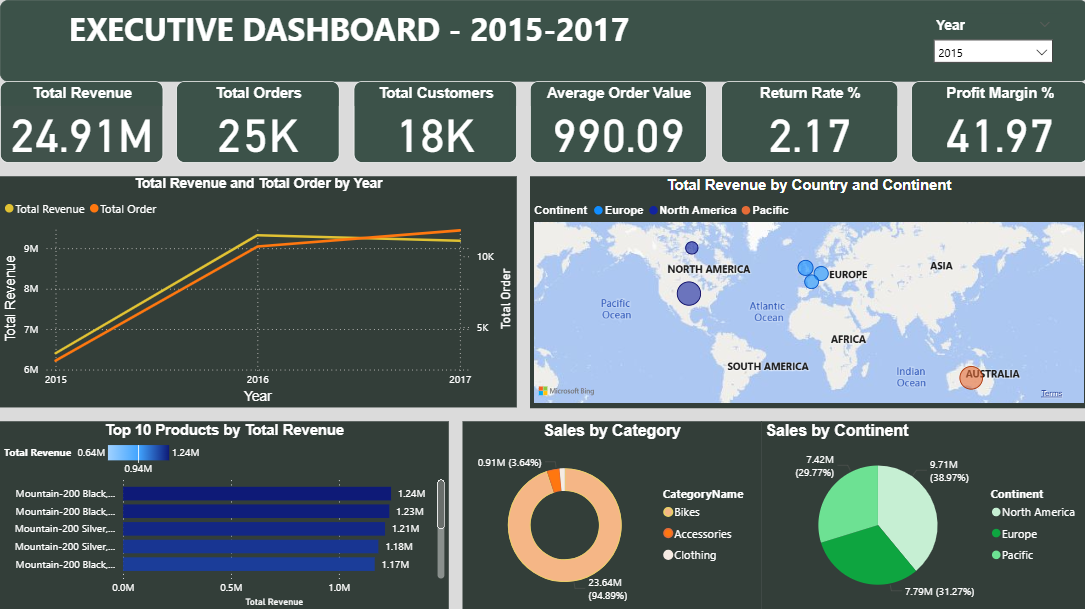

Layout of this report page (visuals, bound fields, positions):
{"tool":"powerbi","page":{"name":"Executive dashboard","canvas":[1280,720],"ordinal":1},"visuals":[{"type":"textbox","box":[0,0,1280,96],"z":0},{"type":"card","title":"Total Revenue","fields":{"Values":["sales.Total Revenue"]},"box":[0,96,192,96],"z":1000},{"type":"card","title":"Total Orders","fields":{"Values":["sales.Total Order"]},"box":[208,96,192,96],"z":2000},{"type":"card","title":"Total Customers","fields":{"Values":["Customers.Total Customers"]},"box":[416,96,192,96],"z":3000},{"type":"card","title":"Average Order Value","fields":{"Values":["sales.Average Order Value"]},"box":[624,96,208,96],"z":4000},{"type":"card","title":"Profit Margin %","fields":{"Values":["sales.Profit Margin %"]},"box":[1072,96,208,96],"z":5000},{"type":"card","title":"Return Rate %","fields":{"Values":["Returns.Return Rate %"]},"box":[848,96,208,96],"z":6000},{"type":"lineChart","fields":{"Category":["sales.OrderDate.Variation.Date Hierarchy.Year","sales.OrderDate.Variation.Date Hierarchy.Quarter","sales.OrderDate.Variation.Date Hierarchy.Month","sales.OrderDate.Variation.Date Hierarchy.Day"],"Y":["sales.Total Revenue"],"Y2":["sales.Total Order"]},"box":[0,208,608,272],"z":7000},{"type":"map","fields":{"Category":["Territories.Country"],"Series":["Territories.Continent"],"Size":["sales.Total Revenue"]},"box":[624,208,656,272],"z":8000},{"type":"clusteredBarChart","title":"Top 10 Products by Total Revenue","fields":{"Category":["Products.ProductName"],"Y":["sales.Total Revenue"]},"box":[0,496,528,224],"z":9000},{"type":"donutChart","title":"Sales by Category","fields":{"Y":["sales.Total Revenue"],"Category":["Product_Categories.CategoryName"]},"box":[544,496,352,224],"z":10000},{"type":"pieChart","title":"Sales by Continent","fields":{"Category":["Territories.Continent"],"Y":["sales.Total Revenue"]},"box":[896,496,384,224],"z":11000},{"type":"slicer","fields":{"Values":["Calendar.Date//.Variation.Date Hierarchy.Year"]},"box":[1088,16,160,64],"z":12000}]}

Visuals, with their boxes in screenshot pixels (x1, y1, x2, y2), scaled from the page's 1280x720 canvas onto the 1085x609 screenshot:
textbox: x1=0, y1=0, x2=1084, y2=81
"Total Revenue" card: x1=0, y1=81, x2=163, y2=162
"Total Orders" card: x1=176, y1=81, x2=339, y2=162
"Total Customers" card: x1=353, y1=81, x2=515, y2=162
"Average Order Value" card: x1=529, y1=81, x2=705, y2=162
"Profit Margin %" card: x1=909, y1=81, x2=1084, y2=162
"Return Rate %" card: x1=719, y1=81, x2=895, y2=162
lineChart - sales.OrderDate.Variation.Date Hierarchy.Year x sales.OrderDate.Variation.Date Hierarchy.Quarter: x1=0, y1=176, x2=515, y2=406
map - Territories.Country x Territories.Continent: x1=529, y1=176, x2=1084, y2=406
"Top 10 Products by Total Revenue" clusteredBarChart: x1=0, y1=420, x2=448, y2=608
"Sales by Category" donutChart: x1=461, y1=420, x2=760, y2=608
"Sales by Continent" pieChart: x1=760, y1=420, x2=1084, y2=608
slicer - Calendar.Date//.Variation.Date Hierarchy.Year: x1=922, y1=14, x2=1058, y2=68
